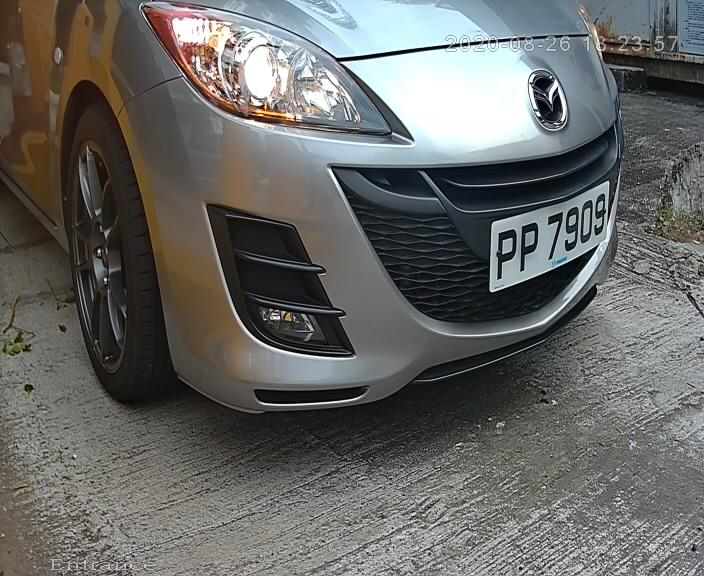Car: (29, 8, 664, 456)
License Plate: (477, 171, 620, 301)
